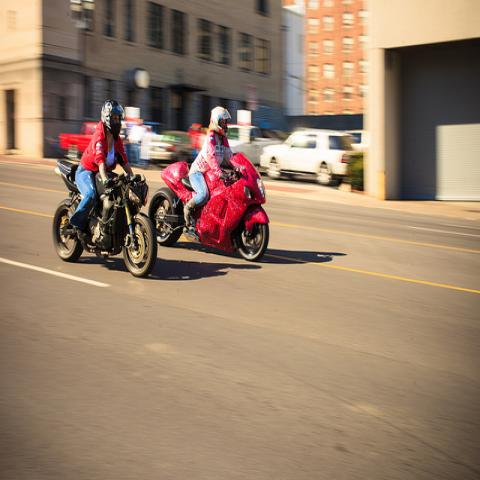car: (261, 126, 362, 189), (228, 125, 279, 166), (139, 131, 191, 166), (349, 129, 363, 154)
motorcycle: (148, 151, 268, 261), (51, 160, 158, 277)
truck: (61, 121, 98, 153)
